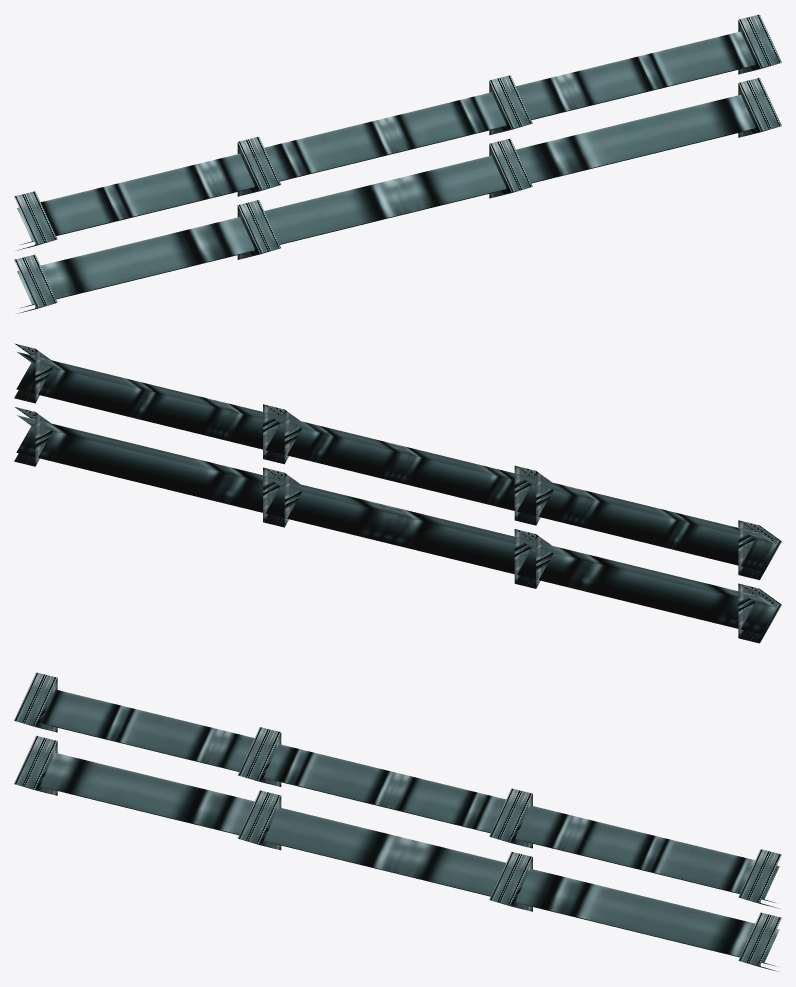
Rendered from Rohr_Doppelt_774.glb.
3 renders of one model, top to bottom at view 1: azimuth 30°, elevation 25°; view 2: azimuth 150°, elevation 25°; view 3: azimuth 330°, elevation 25°, orthographic.
Parts seen in each view (by area): view 1: pCylinderShape97, pCylinderShape102, pCylinderShape100, pCylinderShape105, pCylinderShape98, pCylinderShape103, pCylinderShape101, pCylinderShape106, pCylinderShape99, pCylinderShape104; view 2: pCylinderShape97, pCylinderShape102, pCylinderShape105, pCylinderShape100, pCylinderShape106, pCylinderShape101, pCylinderShape104, pCylinderShape99, pCylinderShape98, pCylinderShape103; view 3: pCylinderShape97, pCylinderShape102, pCylinderShape100, pCylinderShape105, pCylinderShape99, pCylinderShape104, pCylinderShape101, pCylinderShape106, pCylinderShape98, pCylinderShape103.
Part boxes in pixels (box(x1,y1,x2,y2)): pCylinderShape97: box(17, 31, 755, 244); pCylinderShape102: box(17, 95, 755, 308); pCylinderShape100: box(237, 136, 280, 196); pCylinderShape105: box(237, 200, 280, 259); pCylinderShape98: box(738, 14, 781, 74); pCylinderShape103: box(738, 77, 781, 137); pCylinderShape101: box(489, 75, 532, 135); pCylinderShape106: box(489, 138, 532, 198); pCylinderShape99: box(14, 191, 57, 250); pCylinderShape104: box(14, 254, 57, 313); pCylinderShape97: box(16, 352, 776, 571); pCylinderShape102: box(16, 415, 776, 634); pCylinderShape105: box(514, 529, 553, 588); pCylinderShape100: box(514, 465, 553, 525); pCylinderShape106: box(263, 467, 301, 527); pCylinderShape101: box(263, 404, 301, 464); pCylinderShape104: box(738, 583, 781, 643); pCylinderShape99: box(738, 520, 781, 580); pCylinderShape98: box(14, 343, 52, 403); pCylinderShape103: box(14, 407, 52, 466); pCylinderShape97: box(40, 689, 779, 902); pCylinderShape102: box(40, 753, 779, 966); pCylinderShape100: box(238, 727, 281, 786); pCylinderShape105: box(238, 790, 281, 850); pCylinderShape99: box(14, 672, 57, 732); pCylinderShape104: box(14, 735, 57, 795); pCylinderShape101: box(489, 788, 532, 848); pCylinderShape106: box(489, 851, 532, 911); pCylinderShape98: box(738, 849, 781, 908); pCylinderShape103: box(738, 912, 781, 971).
Bounding box in the file's own units: 1 × 0.1516 × 0.0515.
10 materials, 10 textured.
